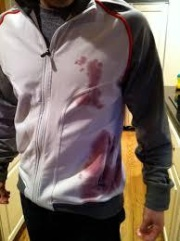wine: (84, 128, 109, 196), (72, 88, 109, 110), (88, 58, 105, 105), (106, 146, 121, 187), (73, 57, 89, 72)
